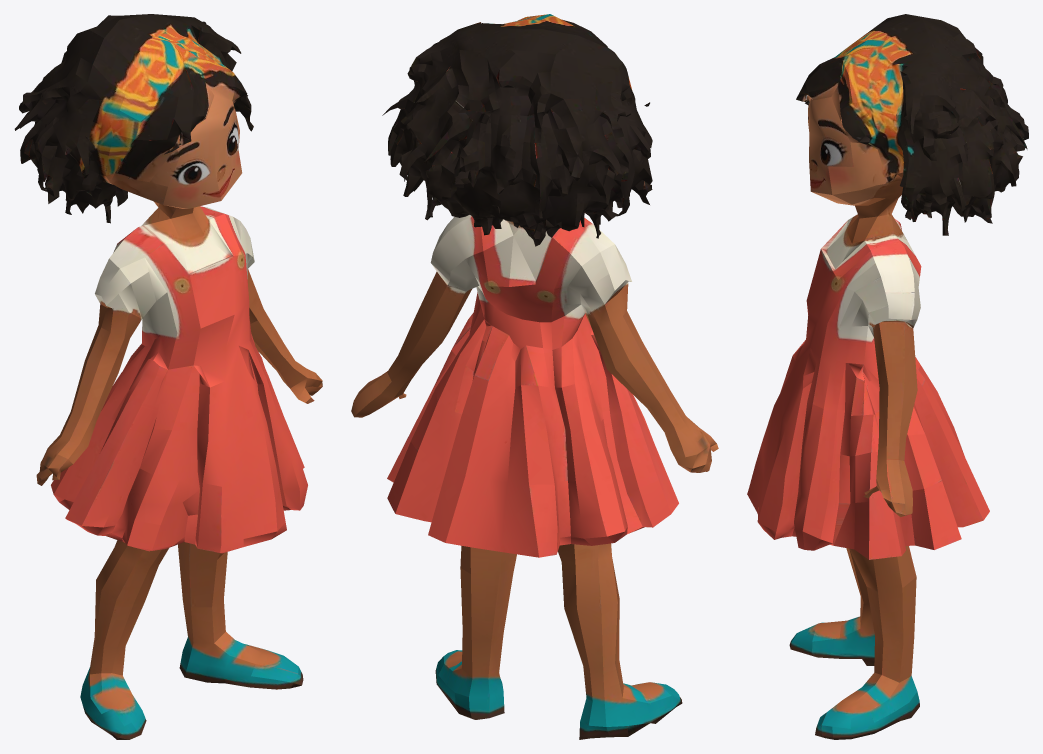
File: amara.glb
3 renders of one model, left to right at view 1: azimuth 30°, elevation 25°; view 2: azimuth 150°, elevation 25°; view 3: azimuth 270°, elevation 25°, orthographic. The views are drawn at different scales.
Parts seen in each view (by area): view 1: Mesh0; view 2: Mesh0; view 3: Mesh0.
Part boxes in pixels (x1,y1,x2,y2): Mesh0: (14,14,322,739); Mesh0: (351,14,718,739); Mesh0: (747,14,1028,739).
Bounding box in the file's own units: 0.9197 × 1.89 × 0.7324.
Materials: 1 (1 with a texture image).
